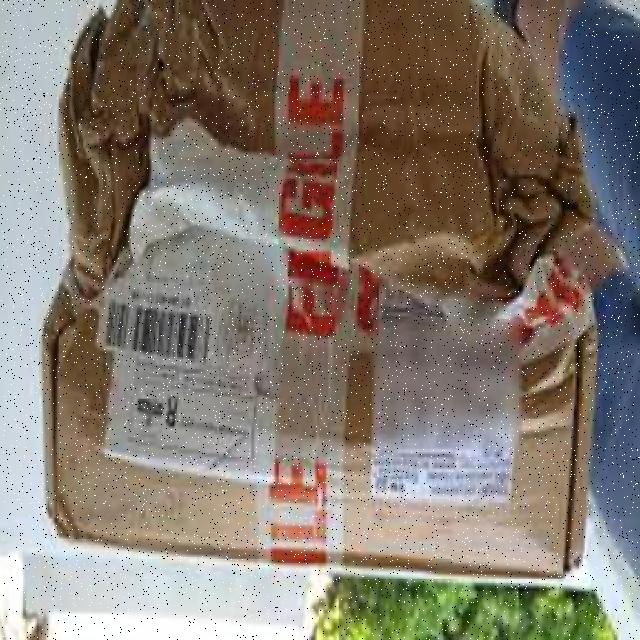defect: (44, 0, 611, 596)
